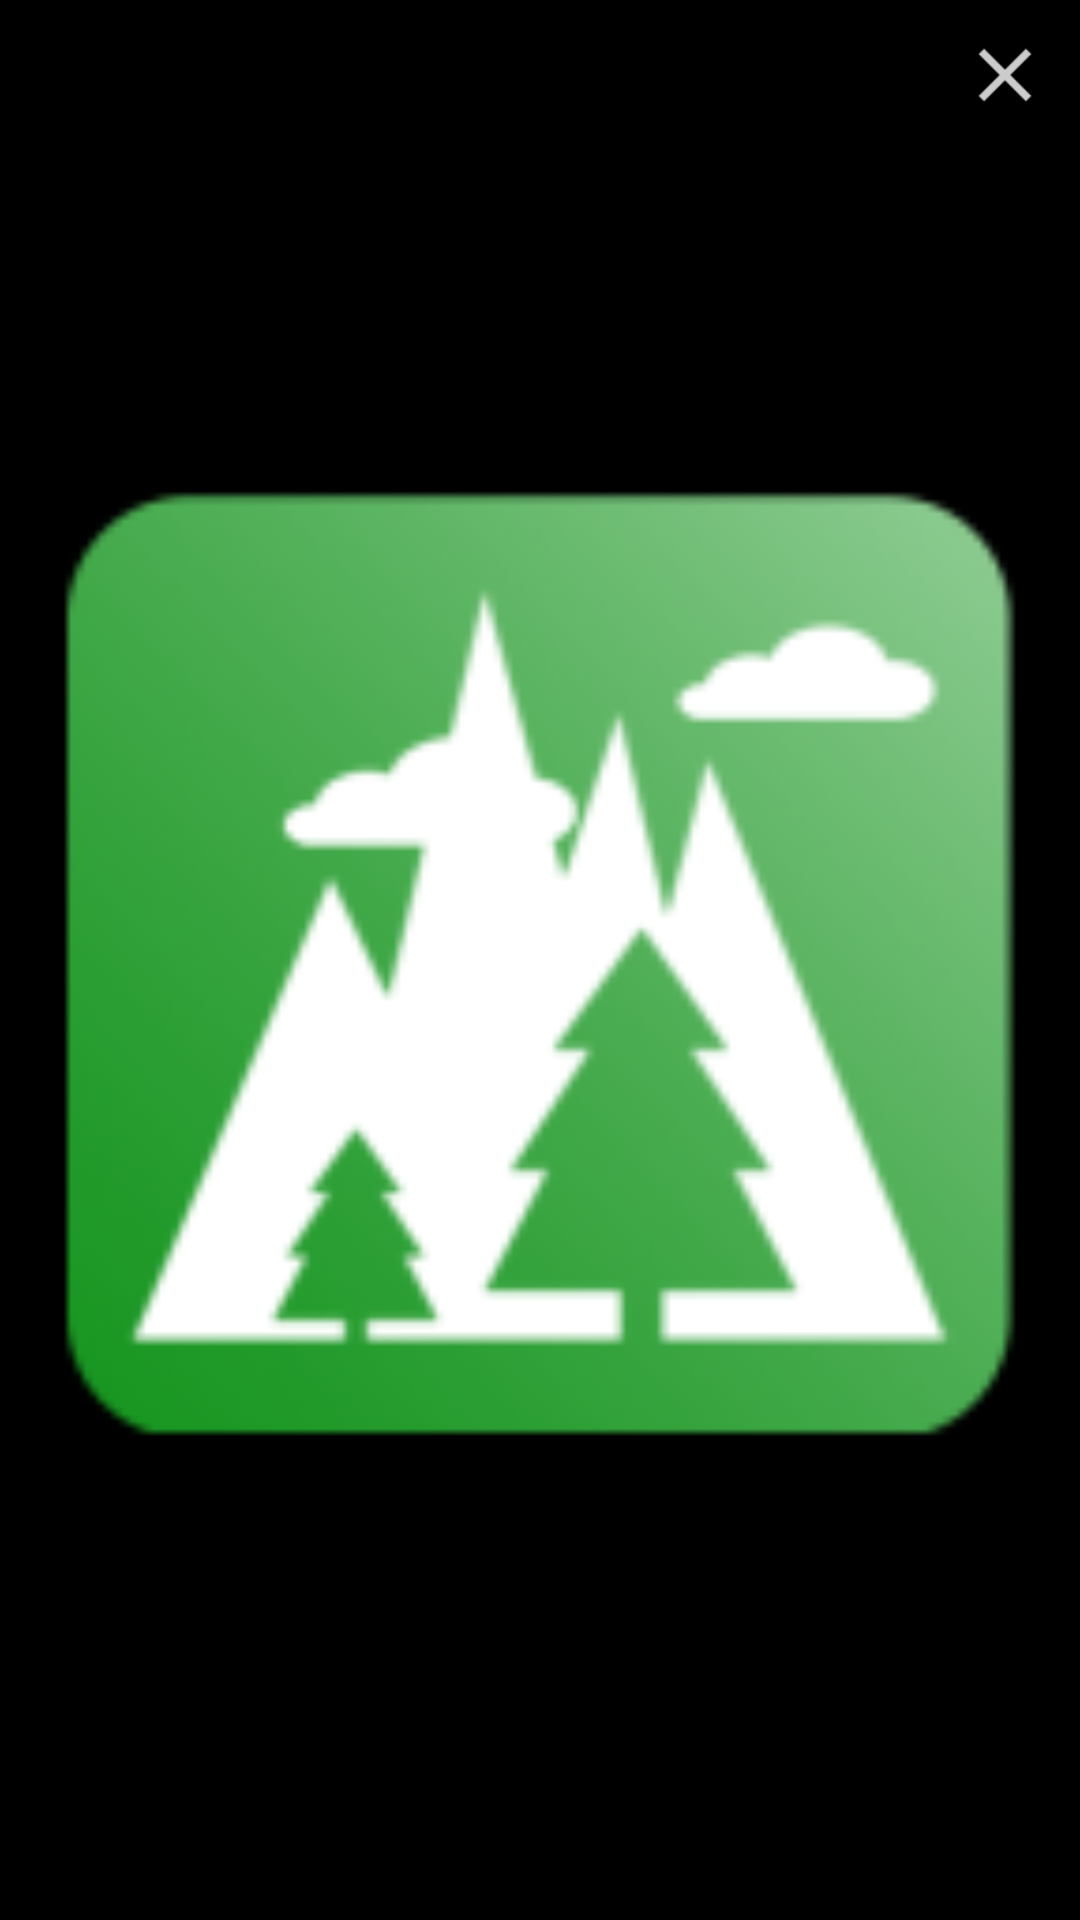

Screen size 1080px x 1920px. Icon name, then its box in pixels as (x1, y1, x2, y2):
close: (978, 48, 1032, 102)
